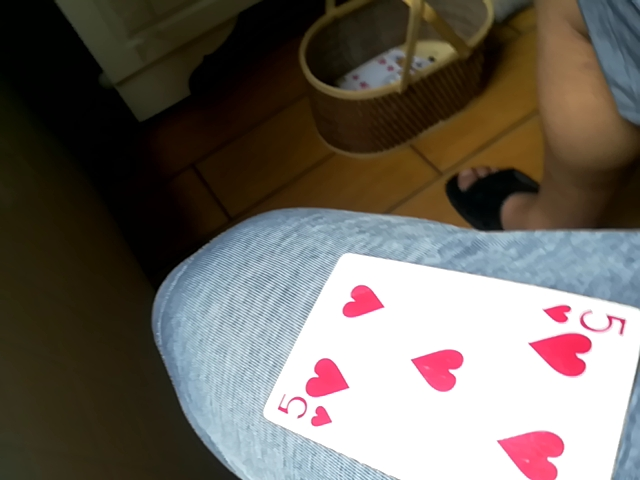hx 5: (259, 247, 639, 479)
